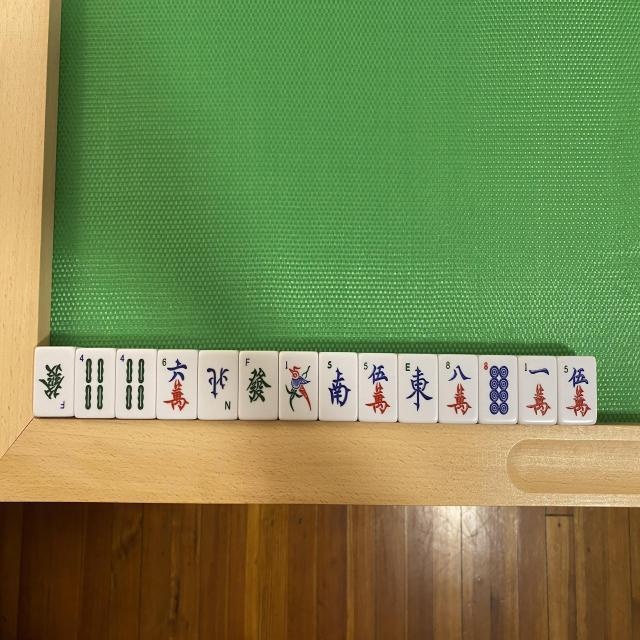hdg: (36, 352, 76, 418), (242, 352, 280, 418)
hwe: (400, 354, 438, 421)
hwn: (200, 354, 238, 421)
hws: (322, 354, 358, 420)
sb1: (281, 354, 319, 419)
sb4: (76, 348, 114, 416), (119, 348, 157, 416)
sc1: (522, 359, 560, 424)
sc5: (558, 356, 596, 422), (359, 353, 396, 419)
sc6: (160, 351, 200, 418)
sc8: (440, 357, 478, 422)
sd8: (480, 356, 516, 422)
